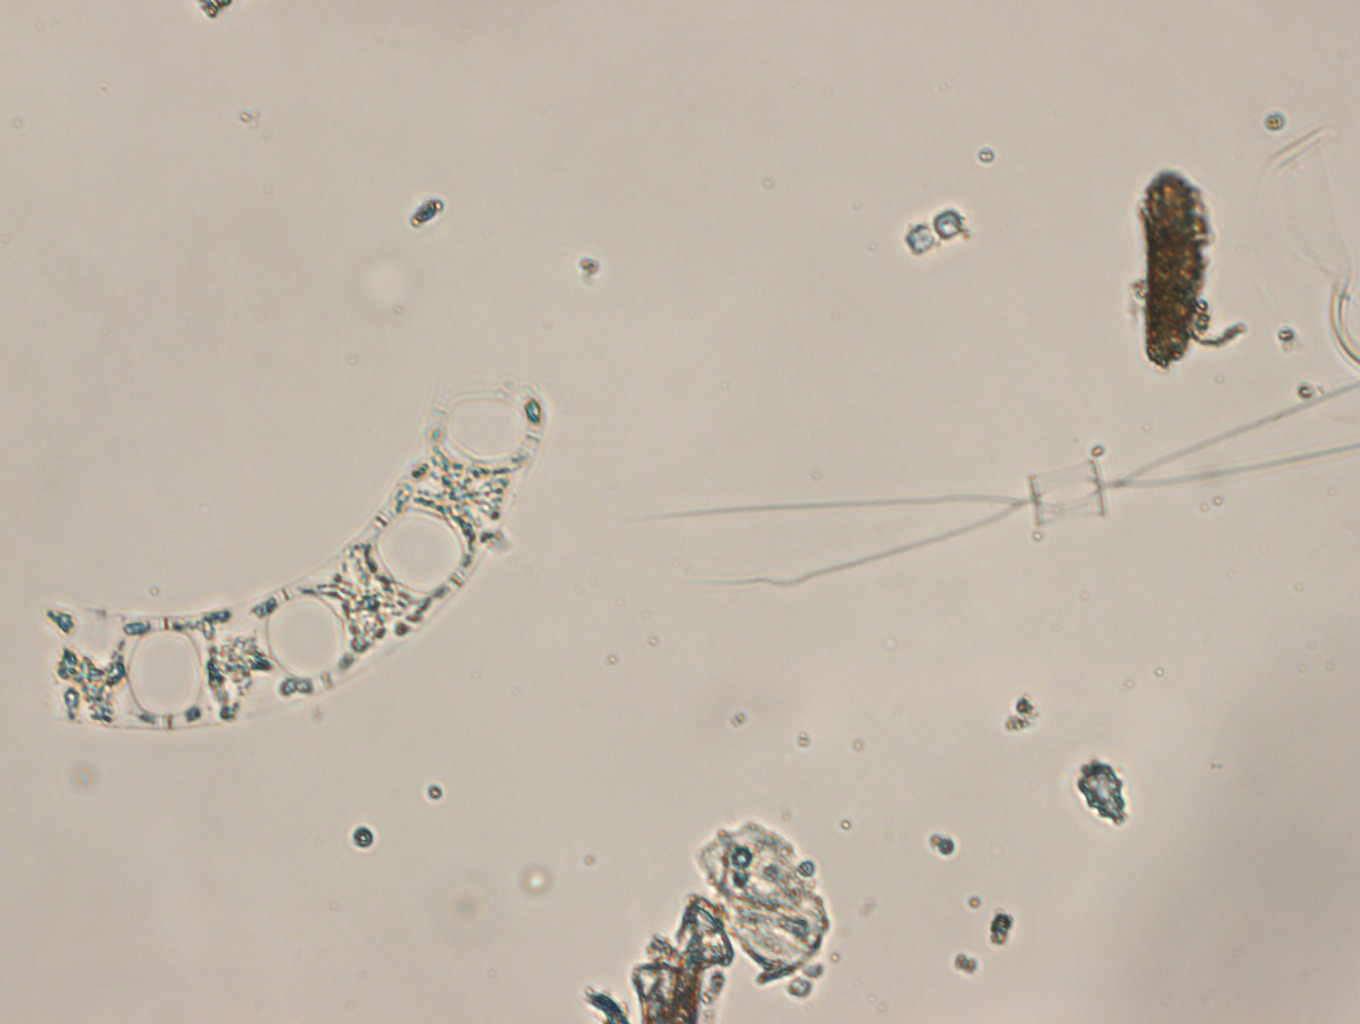chaetoceros: (632, 380, 1360, 591)
eucampia: (41, 370, 543, 733)
